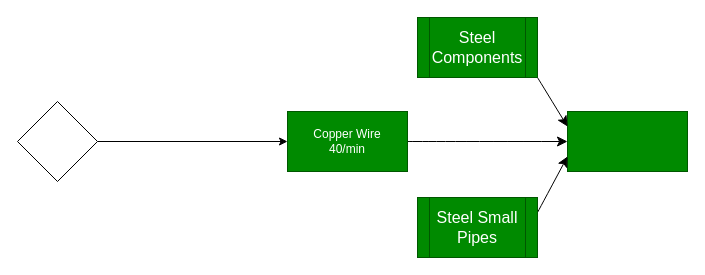
This 705x275 diagram has some shape labels left out. The centre of each missing label's shape, as x and y in pixels:
Copper: [57,141]
Electro Magnet 5/min --> 5/min 10/min 10/min: [627,141]
